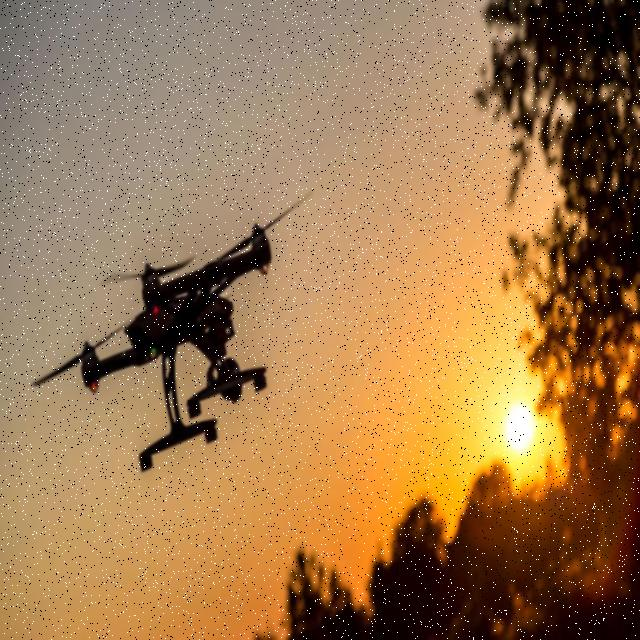UAV: (78, 218, 282, 473)
